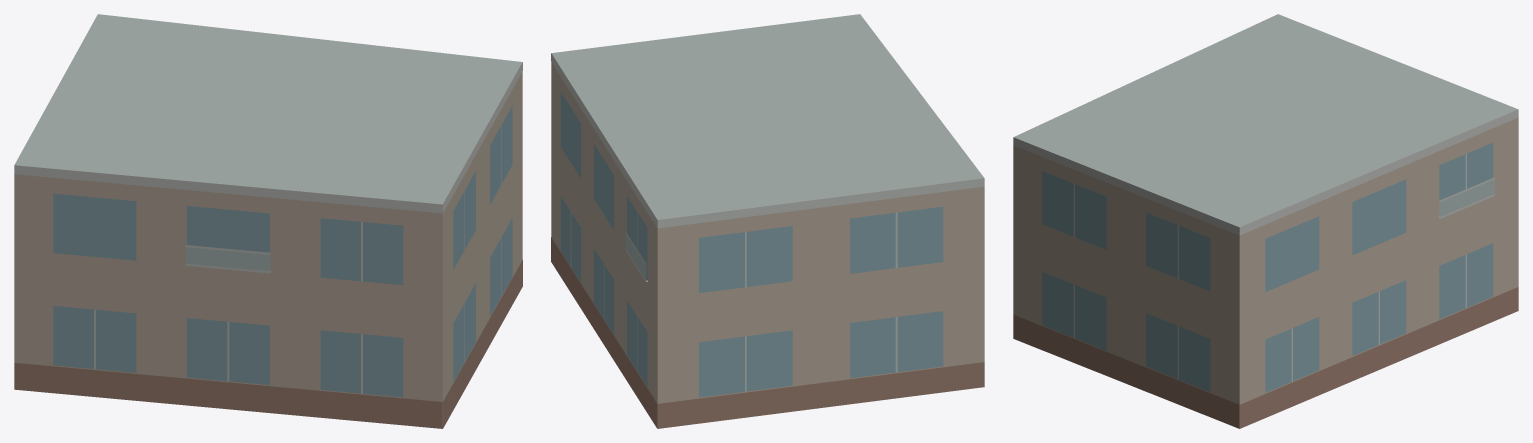
File: survey-upis-32779371.glb
The picture shows the model from 3 angles, left to right: view 1: azimuth 30°, elevation 25°; view 2: azimuth 150°, elevation 25°; view 3: azimuth 270°, elevation 25°; orthographic projection. The views are drawn at different scales.
Parts seen in each view (by area): view 1: survey-upis-32779371.tmp; view 2: survey-upis-32779371.tmp; view 3: survey-upis-32779371.tmp.
Boxes of the visible parts, x1,y1,x2,y2 form: survey-upis-32779371.tmp: (14,14,522,428); survey-upis-32779371.tmp: (551,14,984,428); survey-upis-32779371.tmp: (1013,14,1518,428).
Size of the model in its own units: 13.87 by 6.1 by 13.87.
